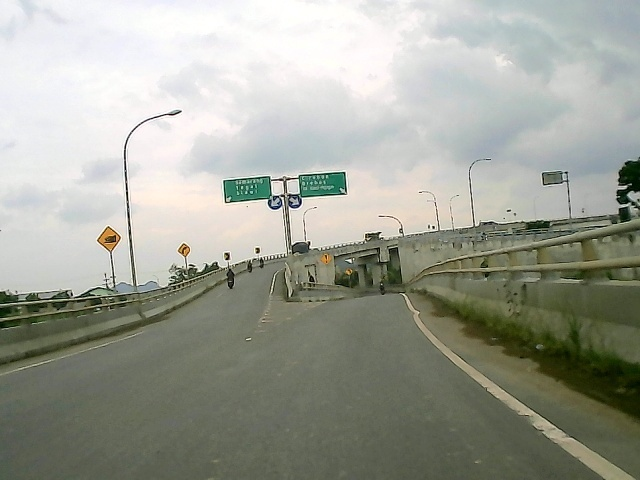Hati-hati: (319, 252, 334, 267)
Jalanan menanjak: (96, 225, 123, 256)
Tikungan ke kanan: (177, 241, 191, 259)
